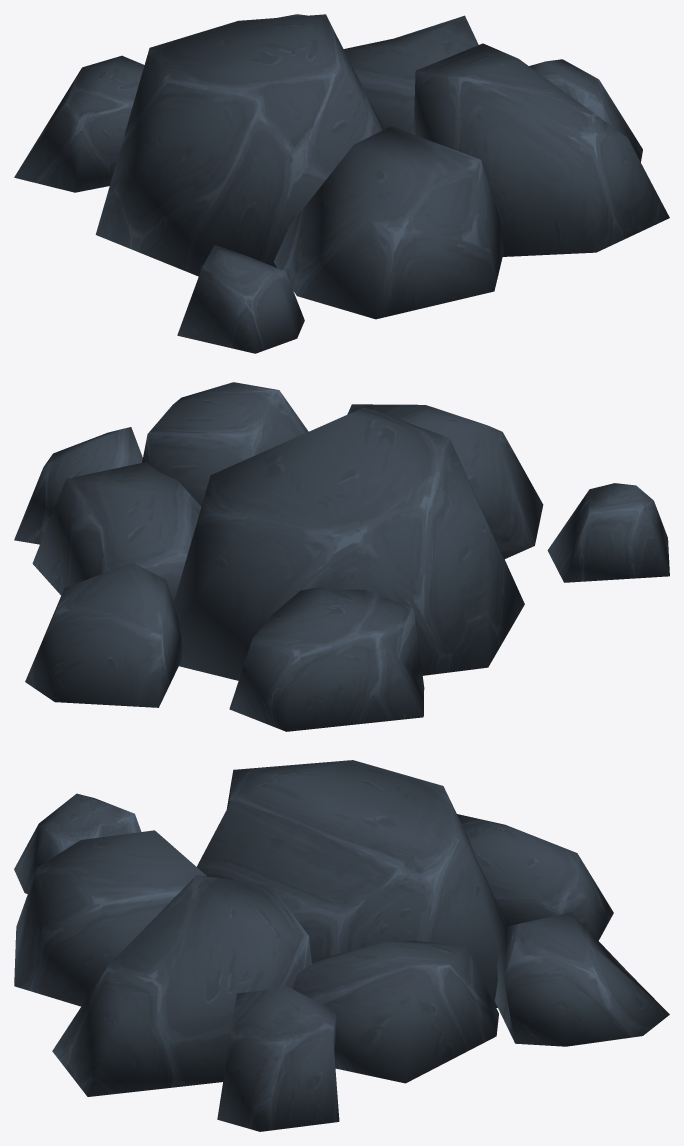
File: SM_PROP_stonepile_battle_04.fbx
3 views of the same model, one above another, from view 1: azimuth 30°, elevation 25°; view 2: azimuth 150°, elevation 25°; view 3: azimuth 270°, elevation 25° (orthographic). The views are drawn at different scales.
Visible parts, largest first — view 1: SM_PROP_stonepile_battle_04; view 2: SM_PROP_stonepile_battle_04; view 3: SM_PROP_stonepile_battle_04.
Boxes of the visible parts, left/top/right/bottom form: SM_PROP_stonepile_battle_04: left=14, top=14, right=669, bottom=353; SM_PROP_stonepile_battle_04: left=14, top=382, right=669, bottom=731; SM_PROP_stonepile_battle_04: left=14, top=760, right=669, bottom=1131.
Bounding box in the file's own units: 146 × 46.33 × 146.
